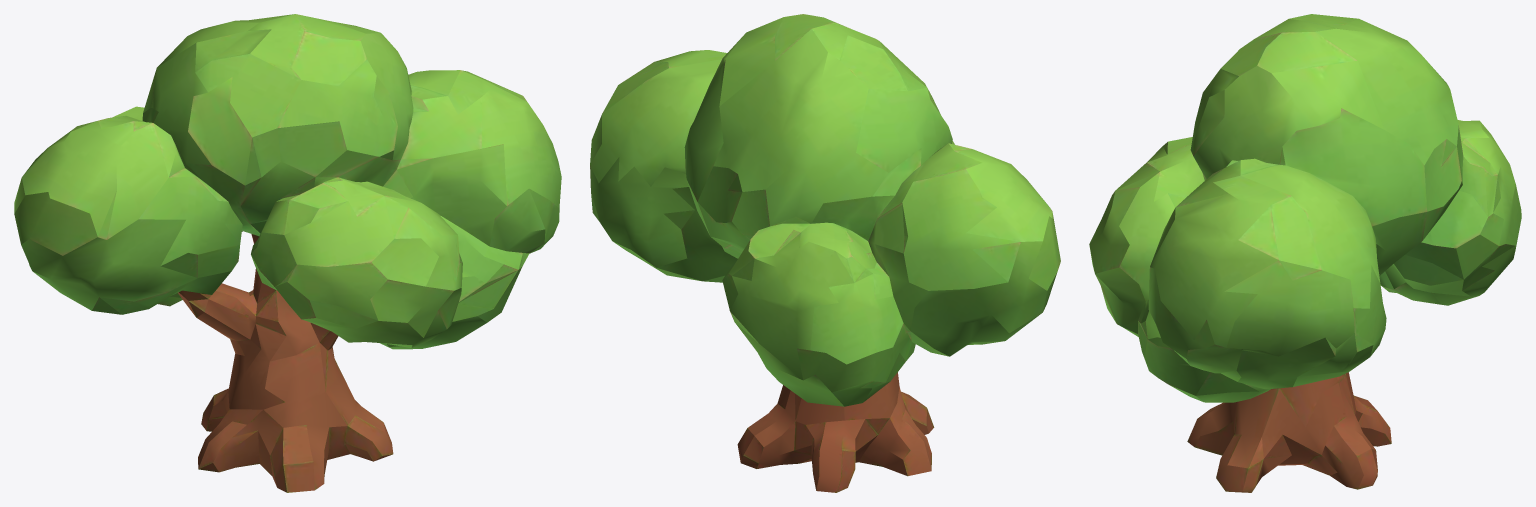
The model's file is nature-tree-fat.glb.
3 views of the same model, side by side, from view 1: azimuth 30°, elevation 25°; view 2: azimuth 150°, elevation 25°; view 3: azimuth 270°, elevation 25° (orthographic). The views are drawn at different scales.
Visible parts, largest first — view 1: nature-tree-fat-fit; view 2: nature-tree-fat-fit; view 3: nature-tree-fat-fit.
Part boxes in pixels (bbox=[...]): nature-tree-fat-fit: bbox=[14, 14, 561, 492]; nature-tree-fat-fit: bbox=[590, 14, 1060, 492]; nature-tree-fat-fit: bbox=[1089, 14, 1521, 492].
Bounding box in the file's own units: 4.32 × 3.64 × 3.29.
1 material, 1 textured.
